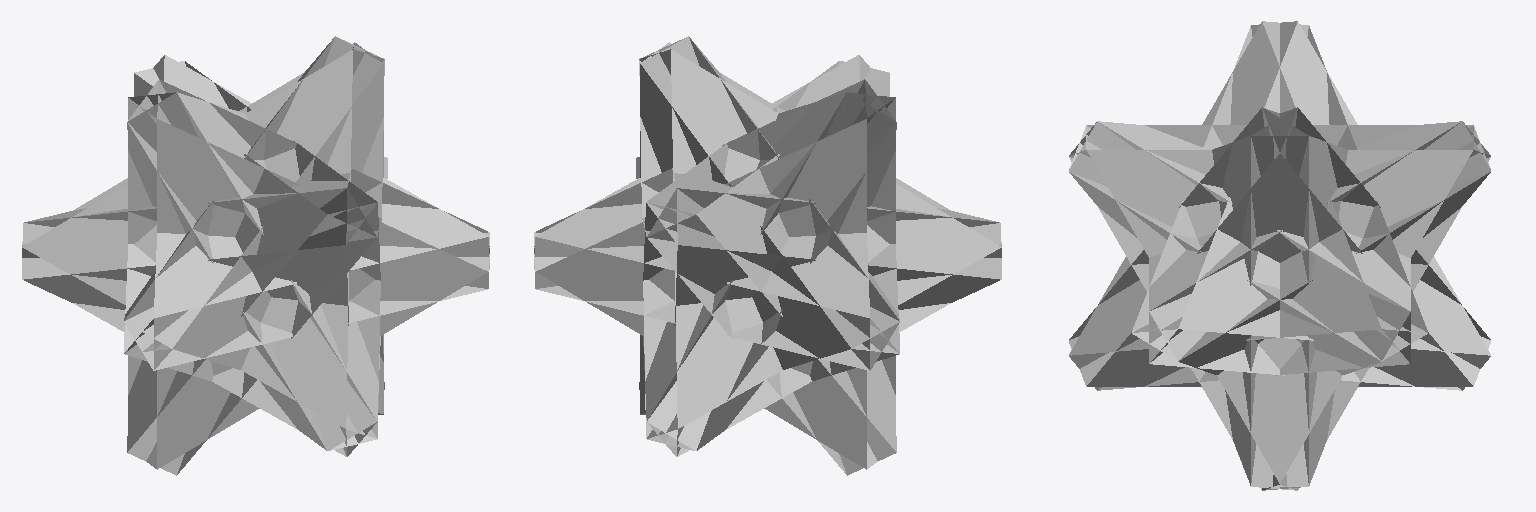
Rendered from hedra.obj.
3 renders of one model, left to right at view 1: azimuth 30°, elevation 25°; view 2: azimuth 150°, elevation 25°; view 3: azimuth 270°, elevation 25°, orthographic.
Parts seen in each view (by area): view 1: Hedra001; view 2: Hedra001; view 3: Hedra001.
Part boxes in pixels (x1,y1,x2,y2): Hedra001: (22, 36, 489, 475); Hedra001: (534, 36, 1001, 475); Hedra001: (1069, 21, 1490, 490).
Bounding box in the file's own units: 20.51 × 20.51 × 20.51.